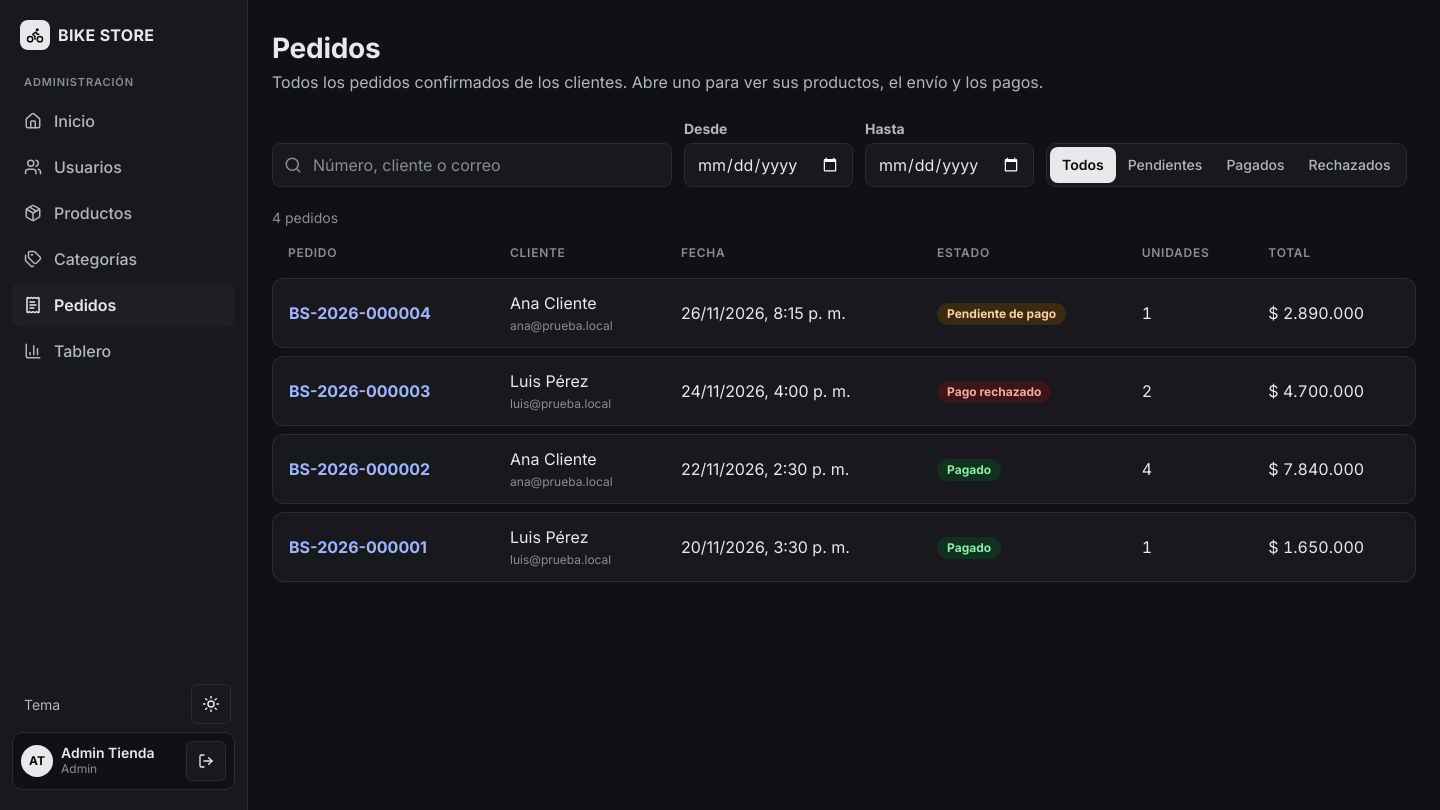
Test: Listado › filtra por fechas y avisa, sin pedir nada, si 'desde' es posterior a 'hasta'
The width and height of the screenshot is (1440, 810).
Expected: the table named "Listado de pedidos" is shown, [272,236,1416,590]
Type "2026-11-21" into the date field labelled "Desde" at (768, 165), box [684,143,853,187]
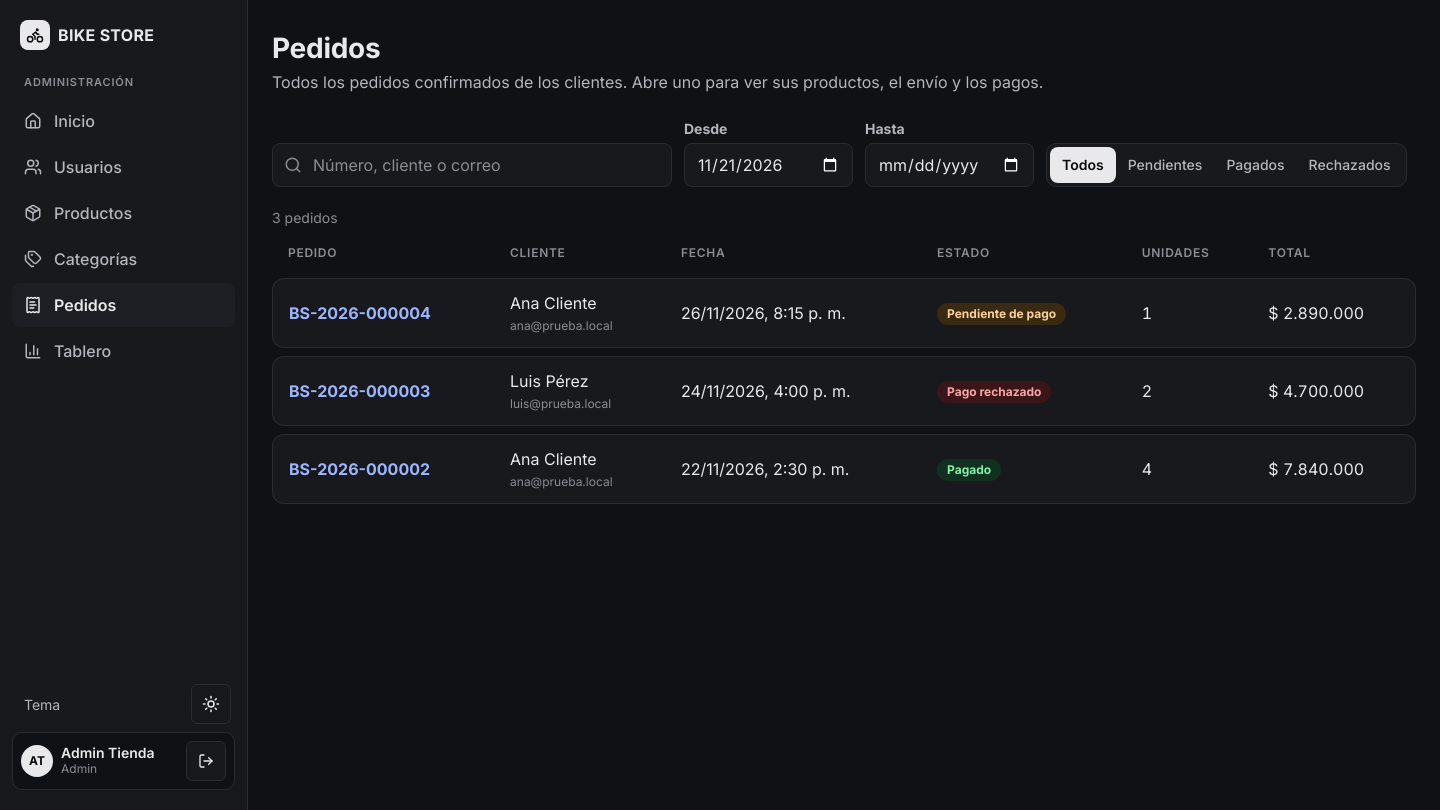
Type "2026-11-20" into the date field labelled "Hasta" at (950, 165), box [865,143,1034,187]
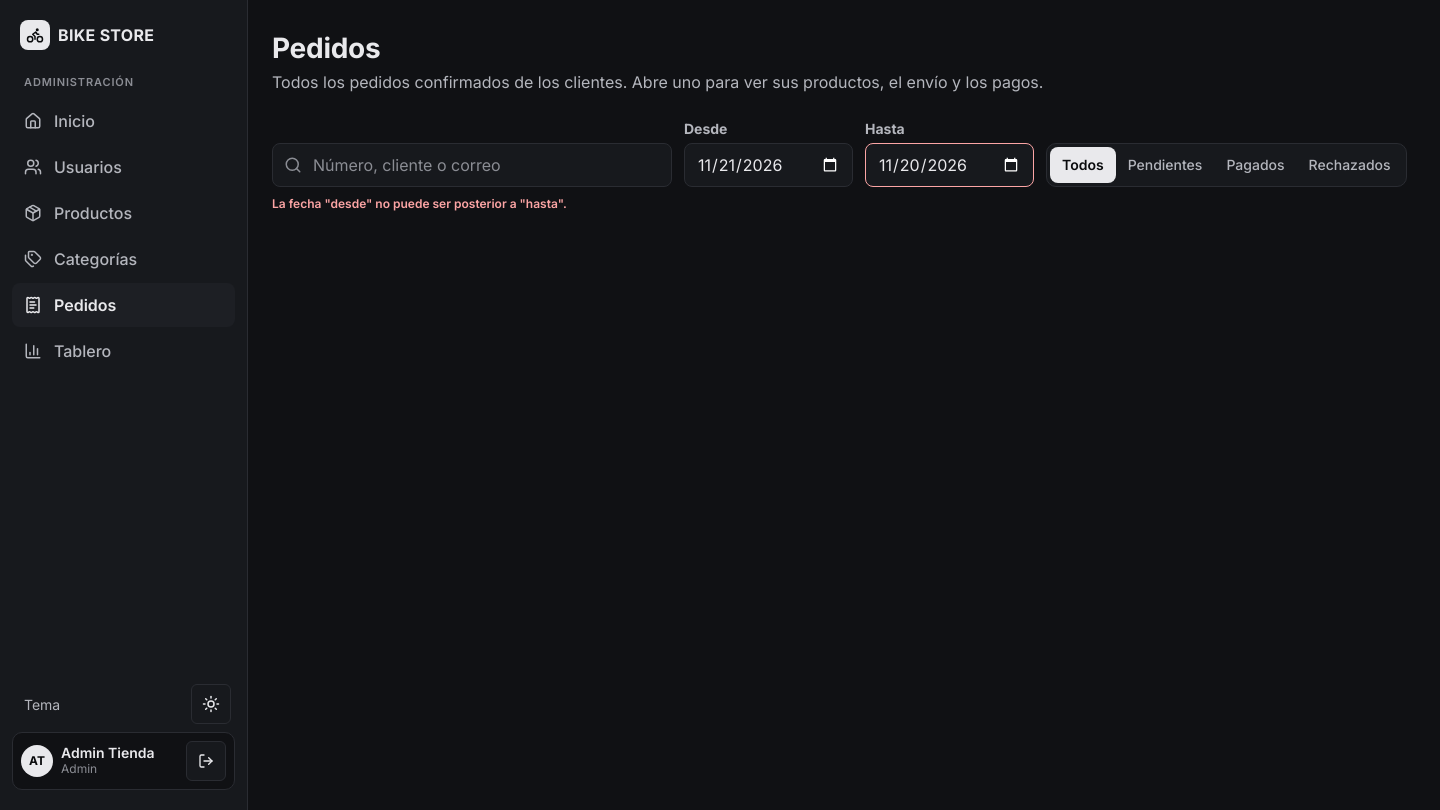
Expected: the message reads "La fecha \"desde\" no puede ser posterior a \"hasta\".", [272,196,567,211]
